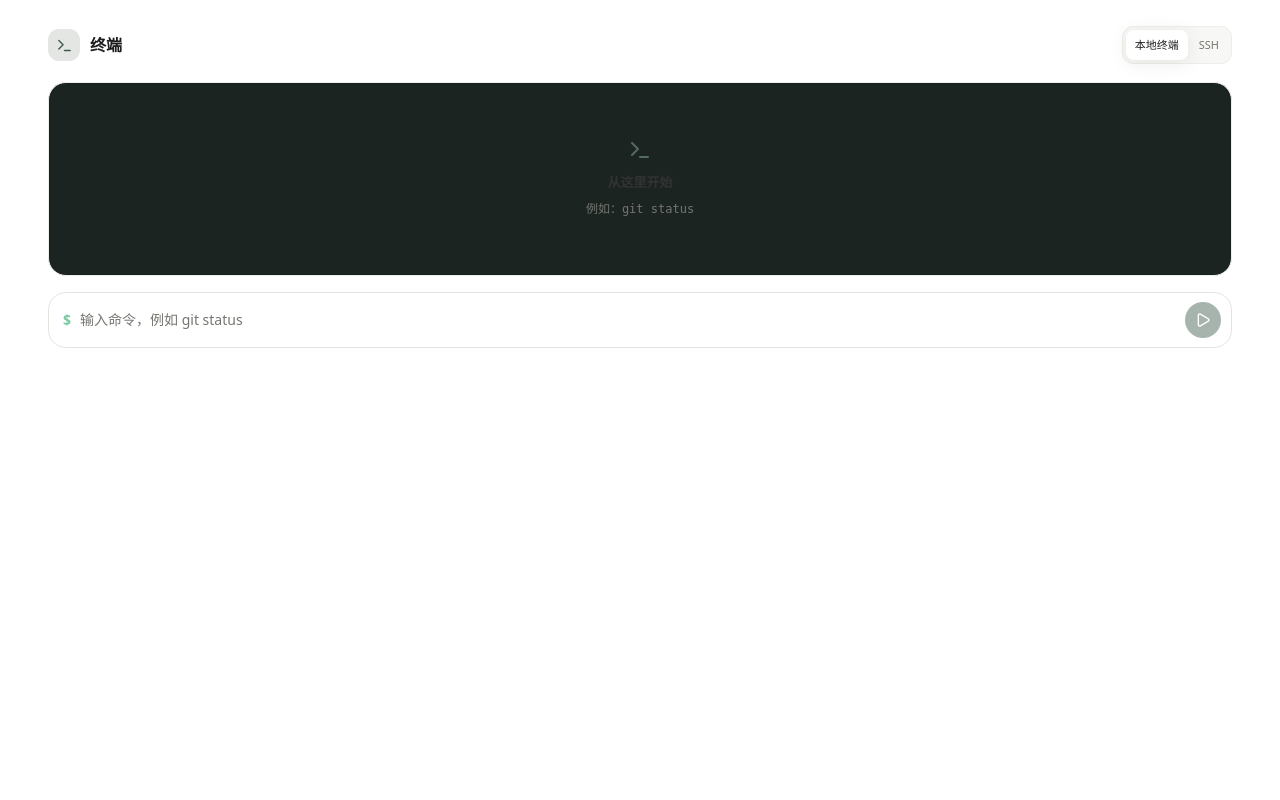
it: TerminalPanel › 配置完成后显示连接、测试连接和排序入口
Click the tab "SSH". click: x=1209, y=45
box: [1190,30,1228,60]
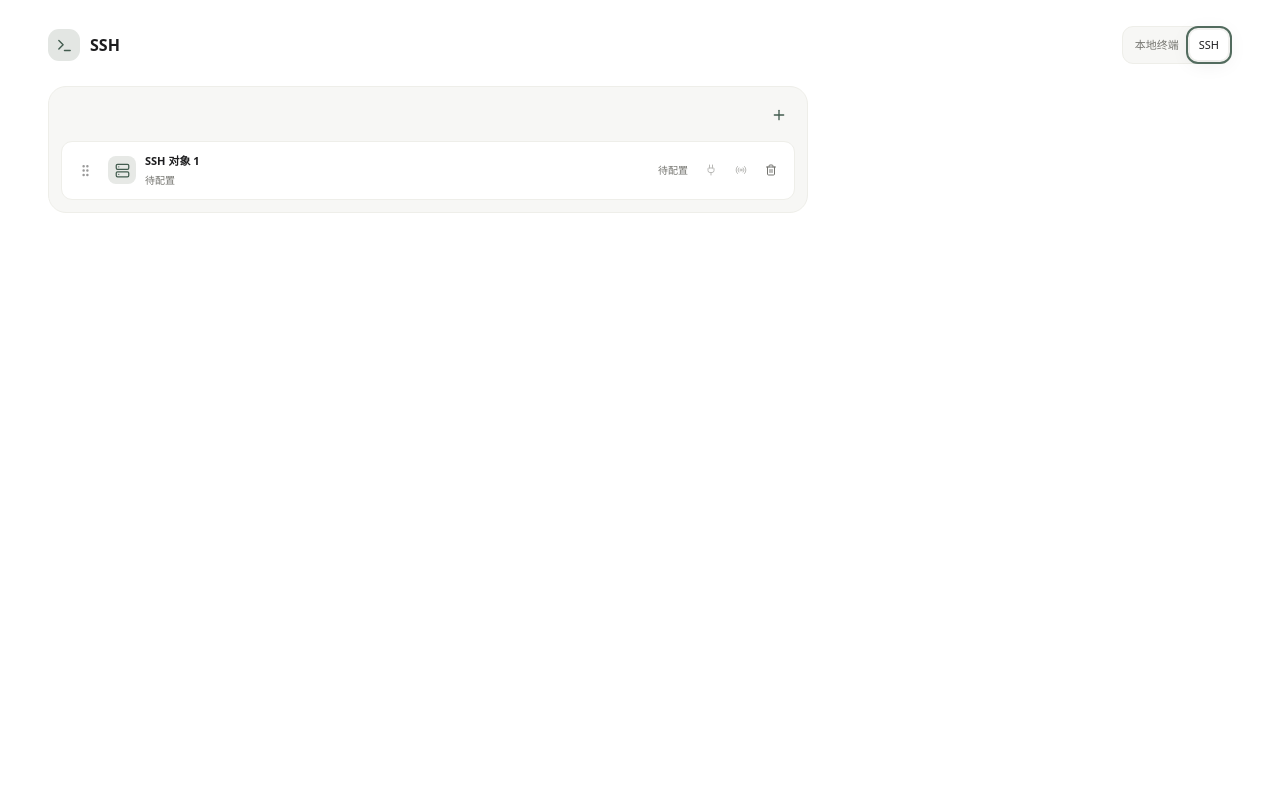
Click the button with aria-label "SSH 对象 1，打开配置". click: x=172, y=160
box: [108,151,688,190]
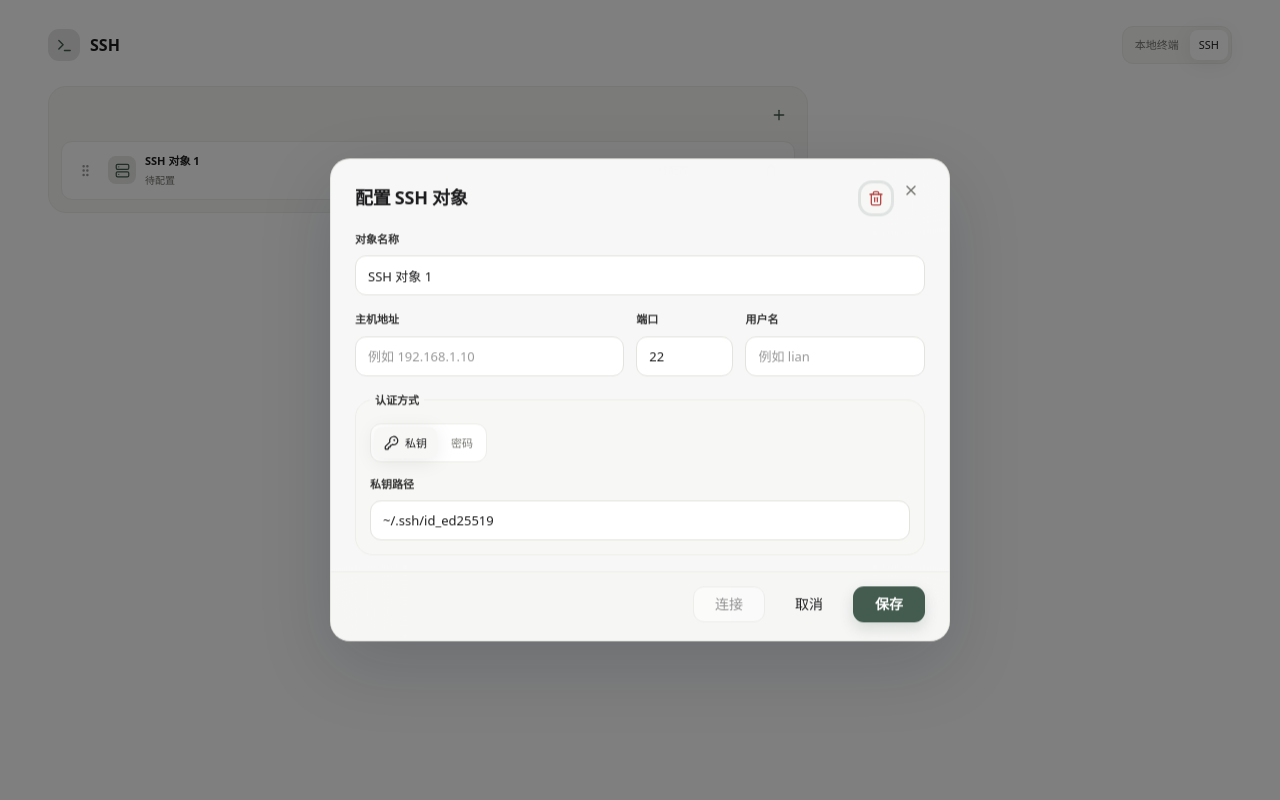
Type "example.internal" into the field named "SSH 主机地址". click: x=490, y=356
box: [355,336,624,376]
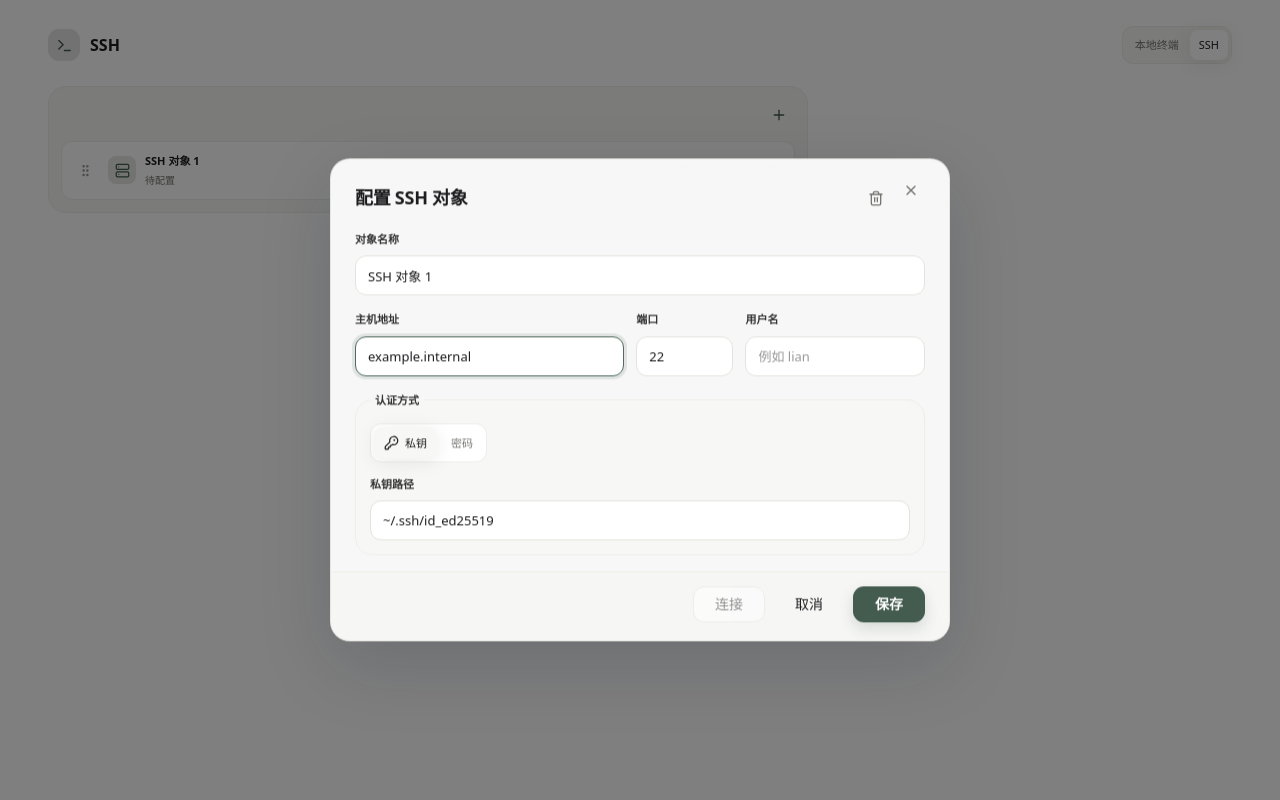
Type "developer" into the field named "SSH 用户名". click: x=835, y=356
box: [746,336,925,376]
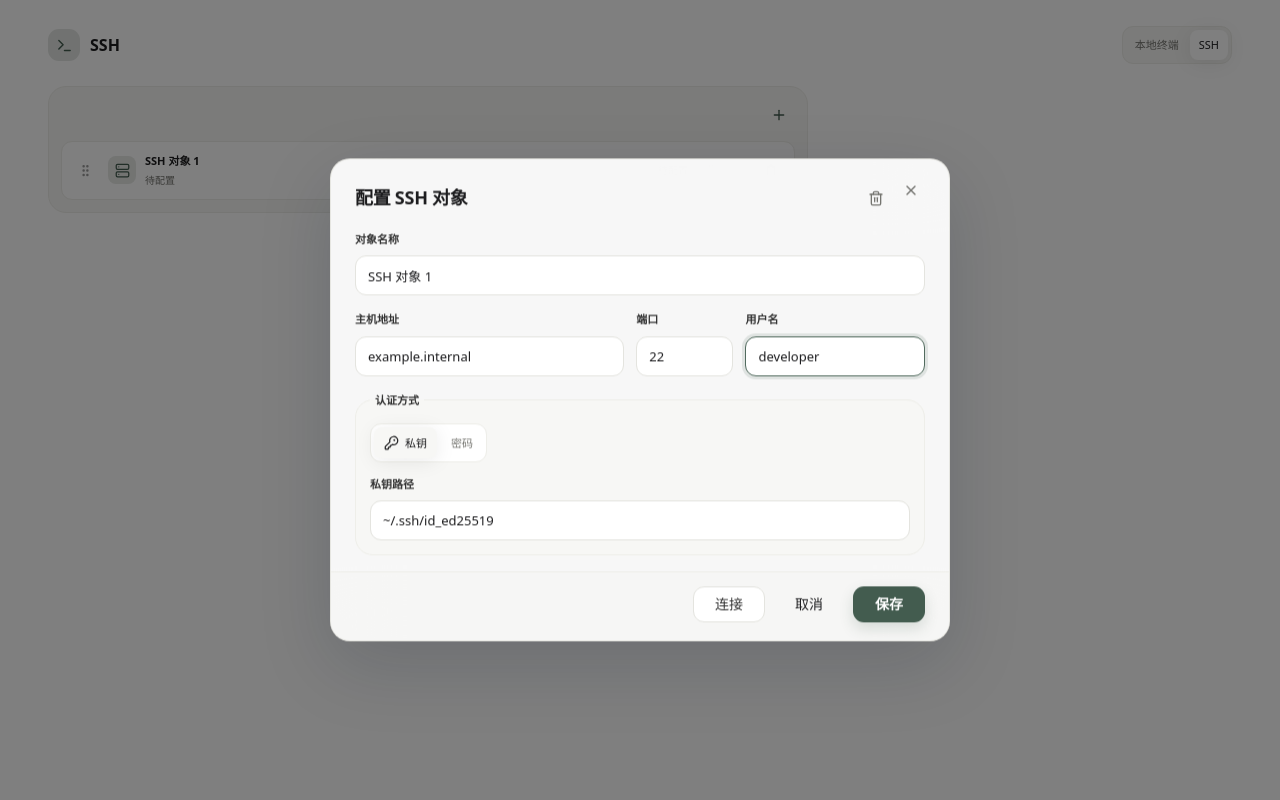
Click the button "保存". click: x=889, y=605
box: [853,587,925,623]
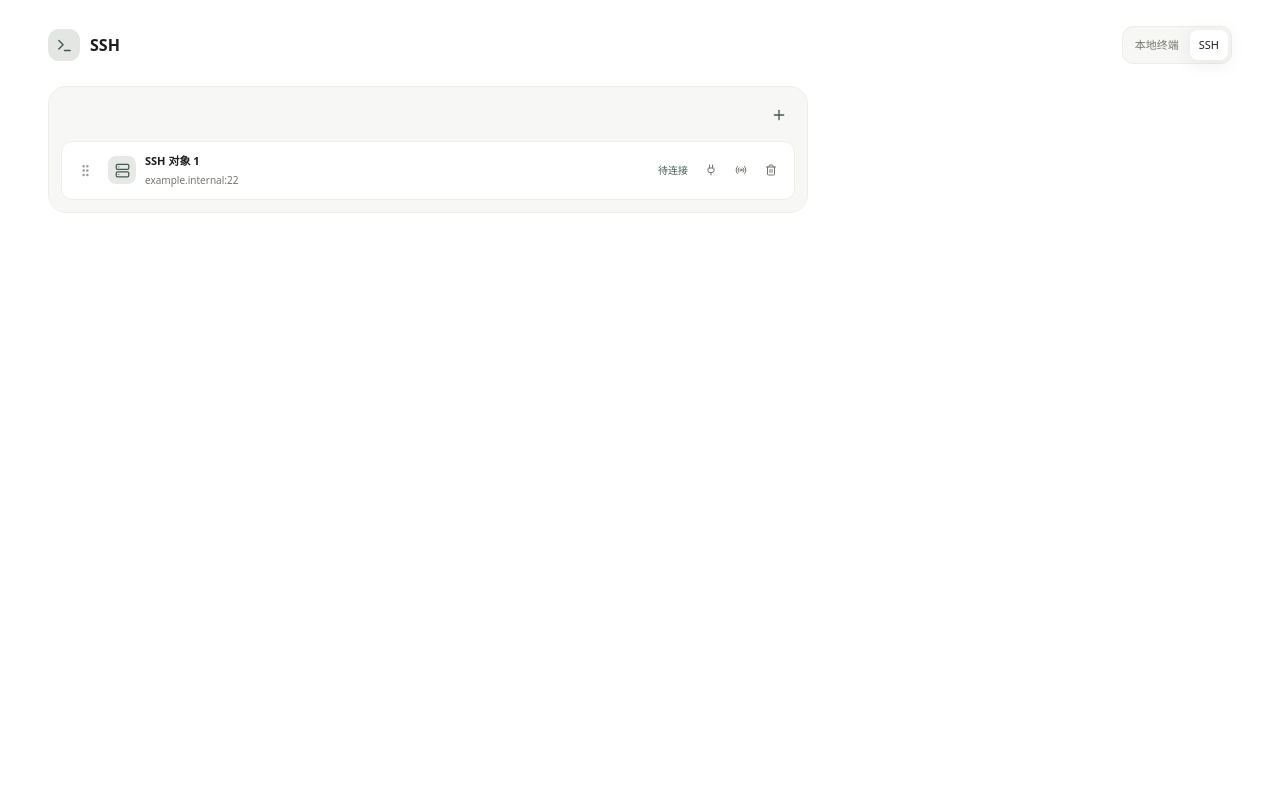
Now the button named "移动SSH 对象 1" is shown, box [71,154,99,186]
Now the button named "连接SSH 对象 1" is enabled, box [697,156,725,184]
Now the button named "测试连接SSH 对象 1" is enabled, box [727,156,755,184]
